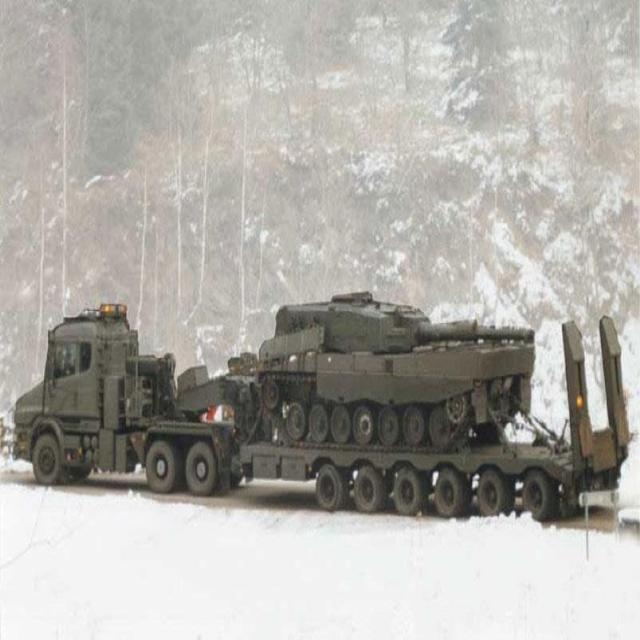MIL_MBT: (254, 284, 536, 436)
